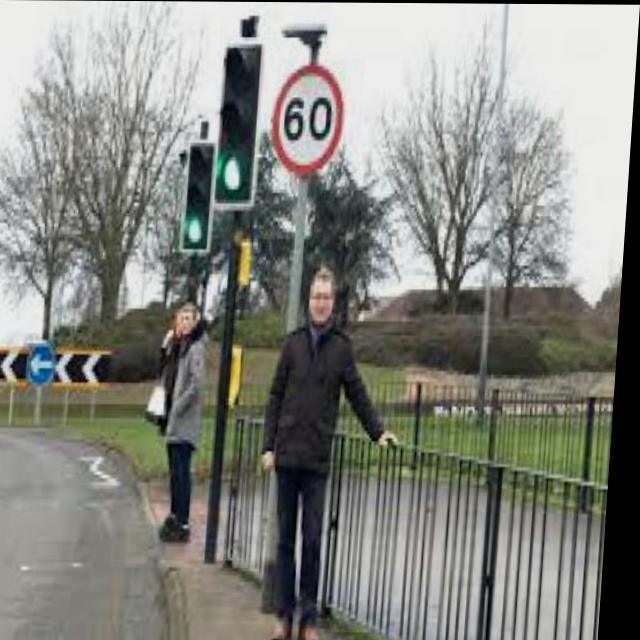limit60: (266, 63, 355, 175)
